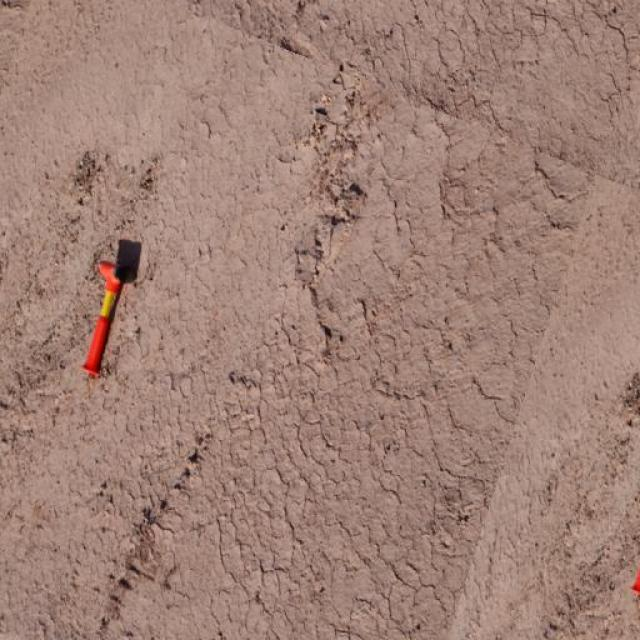mallet: (80, 260, 137, 378)
